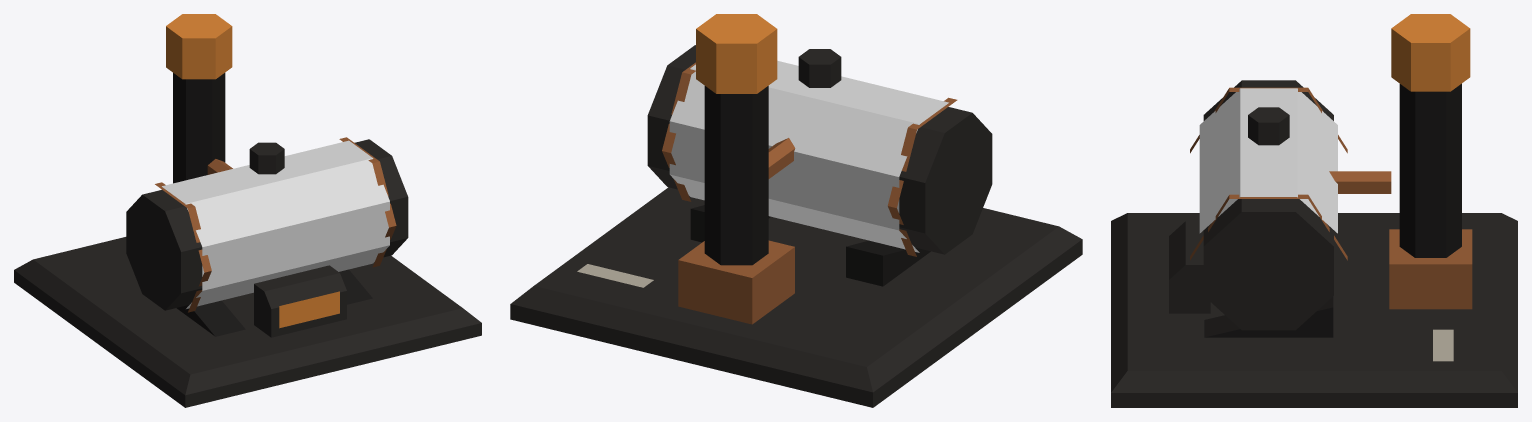
Rendered from str_t1_pgen.e6c93d81.raw.glb.
3 views of the same model, side by side, from view 1: azimuth 30°, elevation 25°; view 2: azimuth 150°, elevation 25°; view 3: azimuth 270°, elevation 25° (orthographic). The views are drawn at different scales.
Visible parts, largest first — view 1: lod0; view 2: lod0; view 3: lod0.
Boxes of the visible parts, box(x1,y1,x2,y2) form: lod0: box(14, 14, 481, 407); lod0: box(510, 14, 1082, 407); lod0: box(1111, 14, 1517, 407).
Size of what is drawn, in the model's own units: 1.96 by 1.56 by 1.96.
